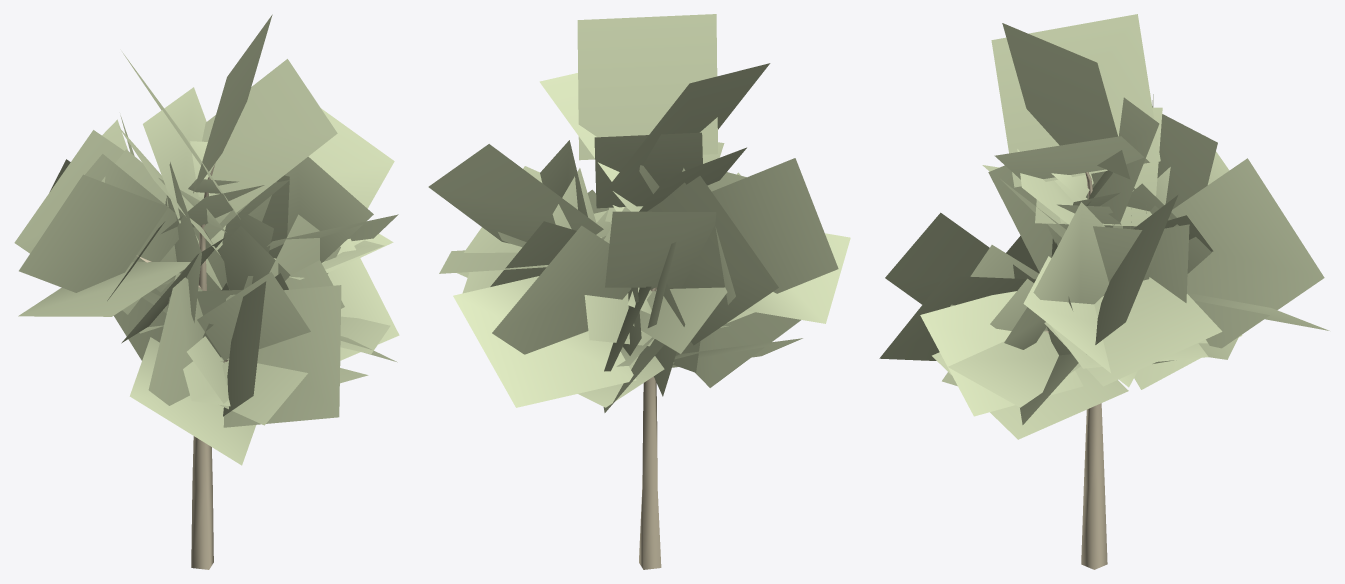
File: oak_lo.glb
3 renders of one model, left to right at view 1: azimuth 30°, elevation 25°; view 2: azimuth 150°, elevation 25°; view 3: azimuth 270°, elevation 25°, orthographic.
Bounding box in the file's own units: 12.41 × 16 × 12.2.
